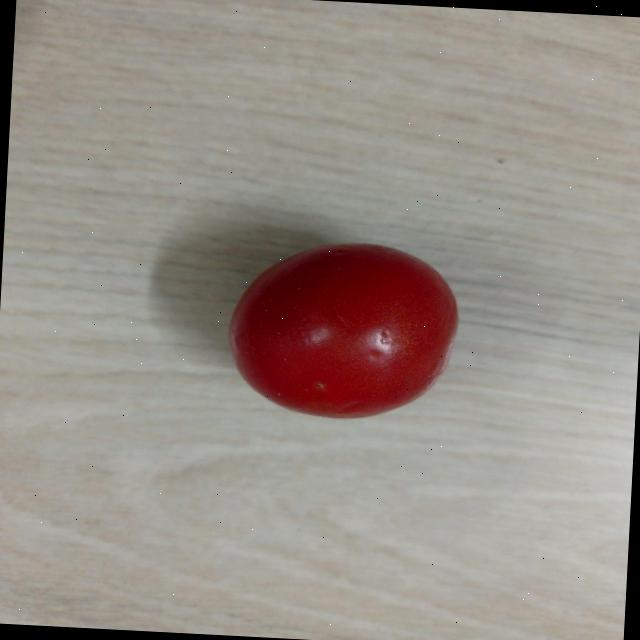Ripe: (222, 232, 469, 429)
